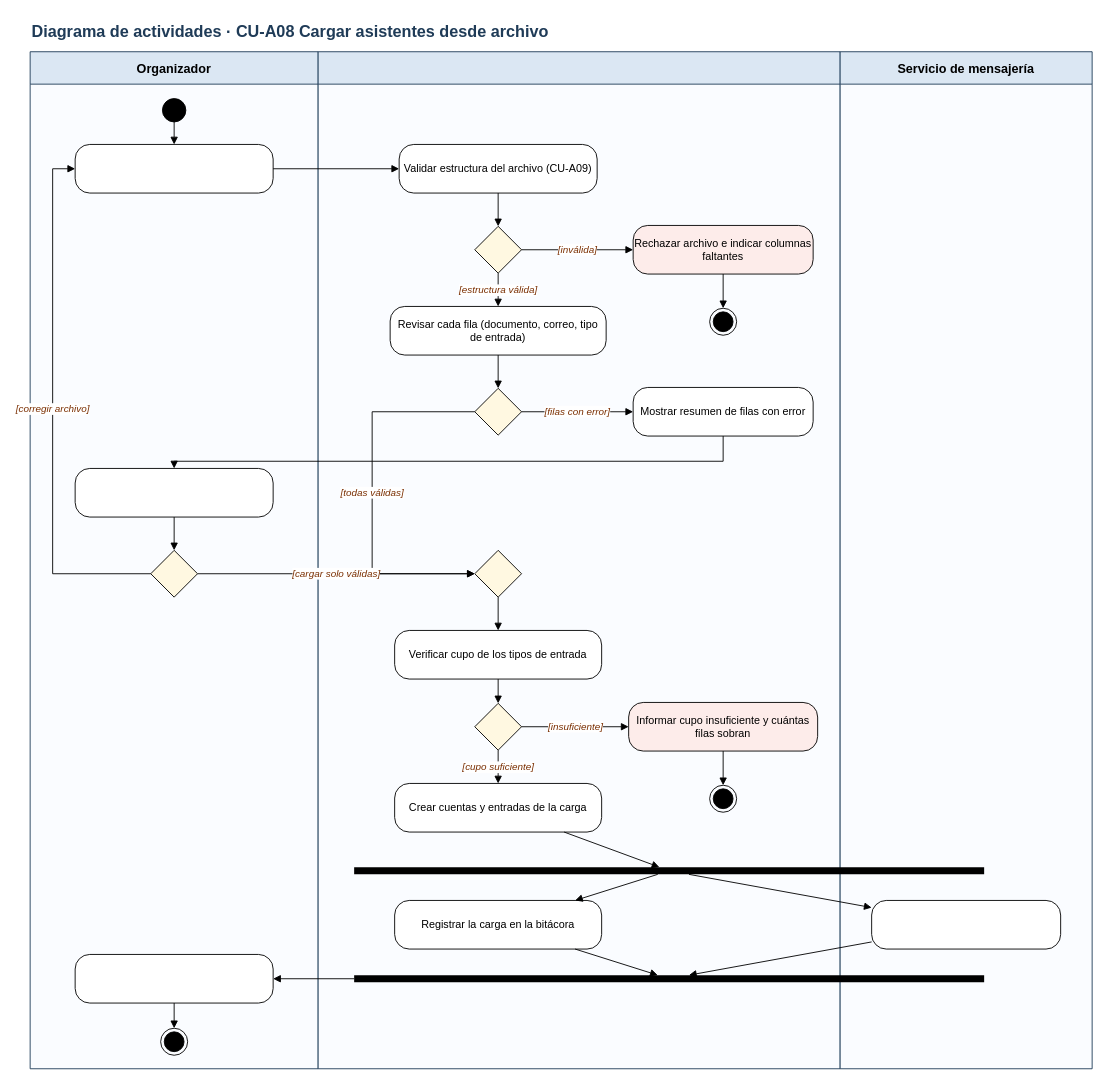
Image size: 1108x1085. Some labels were removed from this diagram. The box of each missing label's shape, as (x1, y1, x2, y2) in pixels:
Decidir: corregir archivo o cargar solo las válidas: (74, 468, 273, 517)
Enviar entrada a cada asistente: (871, 900, 1061, 949)
Seleccionar evento y adjuntar archivo CSV: (74, 144, 273, 193)
Sistema SIGEV: (317, 51, 840, 1069)
Ver resultado: filas cargadas y rechazadas: (74, 954, 273, 1003)
